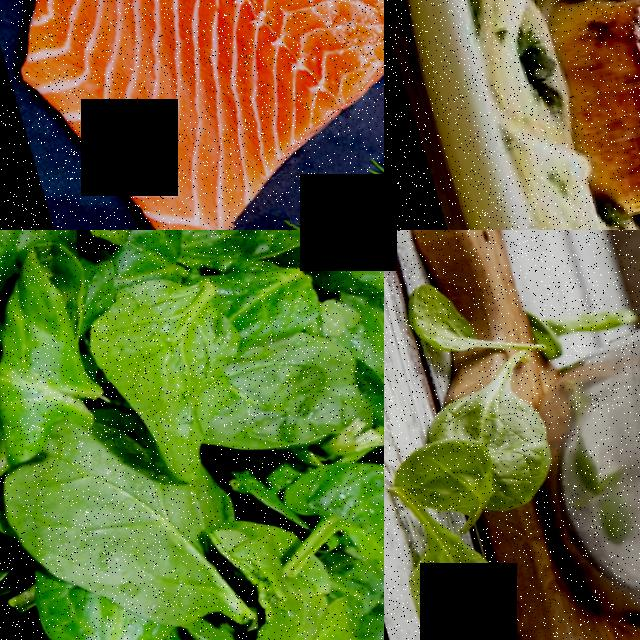salmon: (0, 0, 324, 230), (84, 0, 384, 87)
sea scallops: (528, 0, 640, 222)
spinach: (0, 416, 199, 618), (72, 270, 247, 482), (384, 529, 513, 640), (460, 376, 560, 514), (272, 442, 384, 561), (205, 250, 321, 344), (389, 435, 493, 529), (394, 273, 479, 360)
